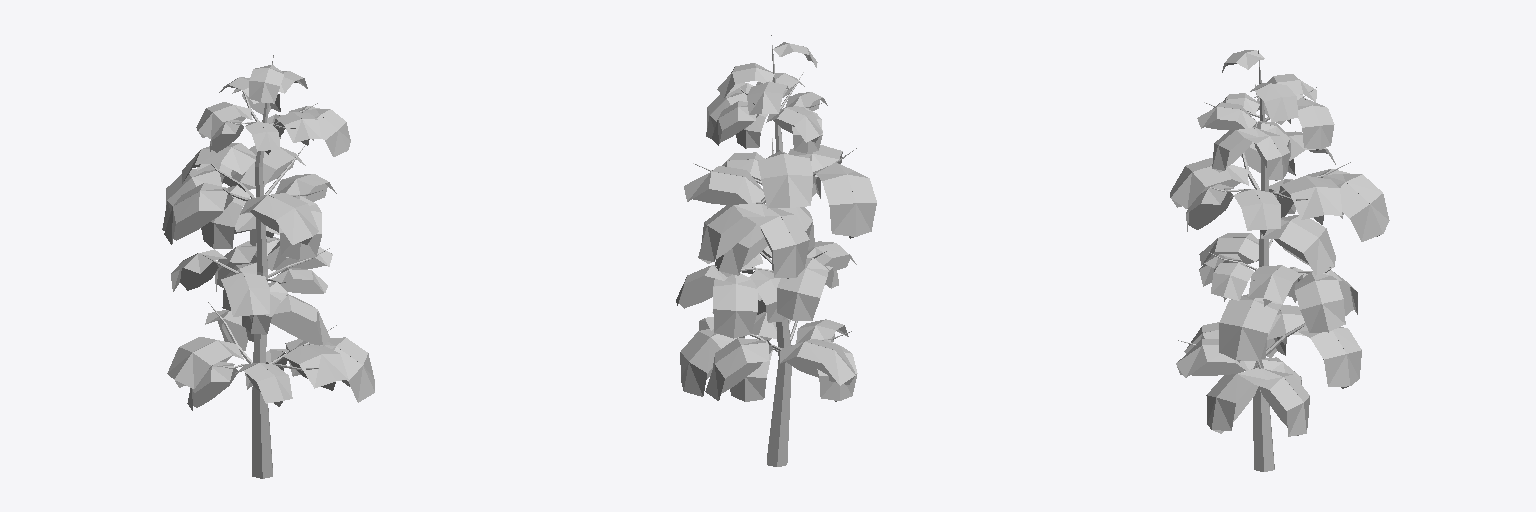
Rendered from tree13.obj.
The picture shows the model from 3 angles: view 1: azimuth 30°, elevation 25°; view 2: azimuth 150°, elevation 25°; view 3: azimuth 270°, elevation 25°; orthographic projection.
Visible parts, largest first — view 1: treeBirch3:null_ pasted__pasted__group49 pasted__group50 group51; view 2: treeBirch3:null_ pasted__pasted__group49 pasted__group50 group51; view 3: treeBirch3:null_ pasted__pasted__group49 pasted__group50 group51.
Boxes of the visible parts, <box> form: treeBirch3:null_ pasted__pasted__group49 pasted__group50 group51: <box>162,55,374,478</box>; treeBirch3:null_ pasted__pasted__group49 pasted__group50 group51: <box>676,35,876,466</box>; treeBirch3:null_ pasted__pasted__group49 pasted__group50 group51: <box>1170,50,1389,471</box>.
Bounding box in the file's own units: 40.66 × 87.07 × 40.81.